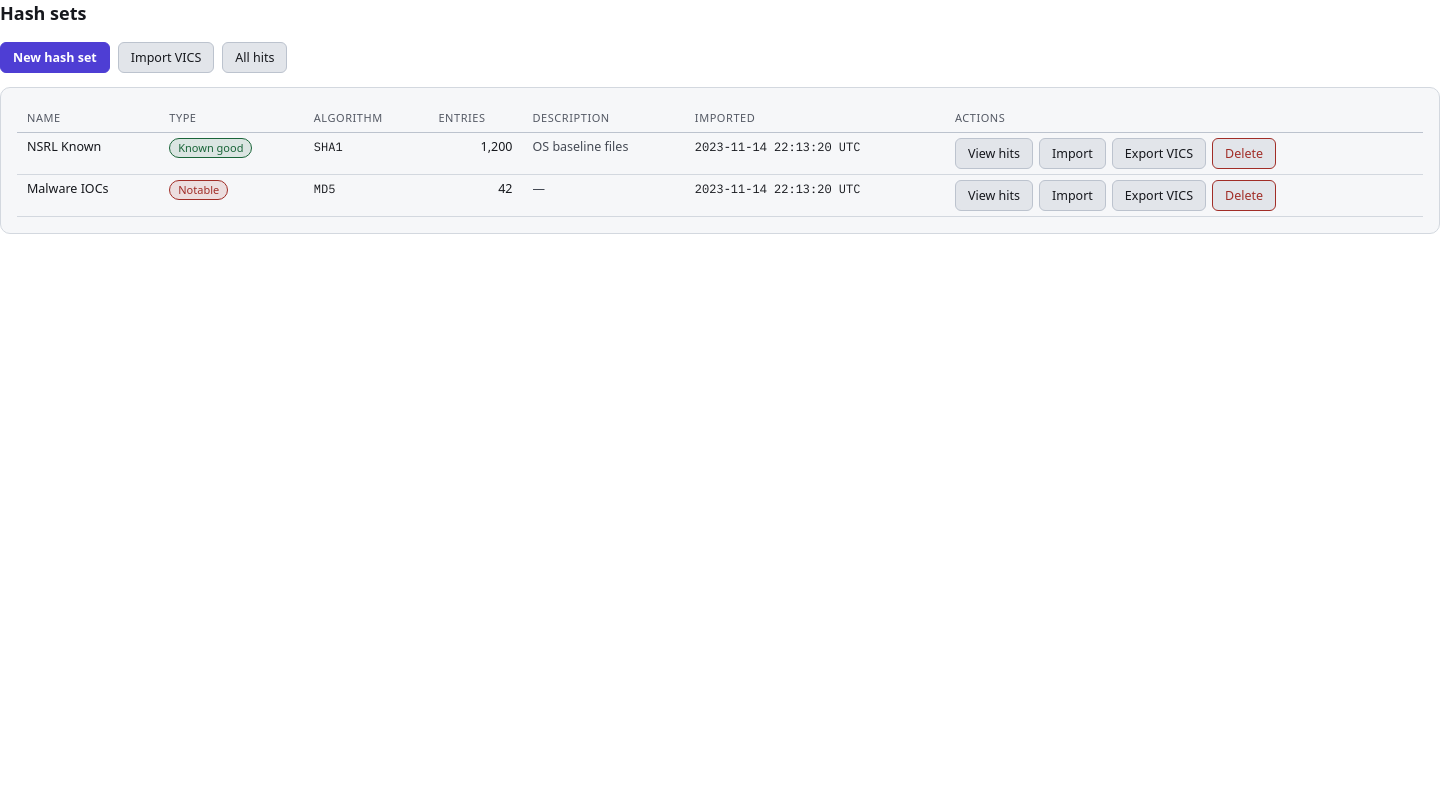
Test case: HashSetsPage › creates a hash set and refreshes the list
The image size is (1440, 810).
Check: the text "NSRL Known" is shown, box [17,132,159,174]
Click the button "New hash set": [55, 58] box [0,42,110,73]
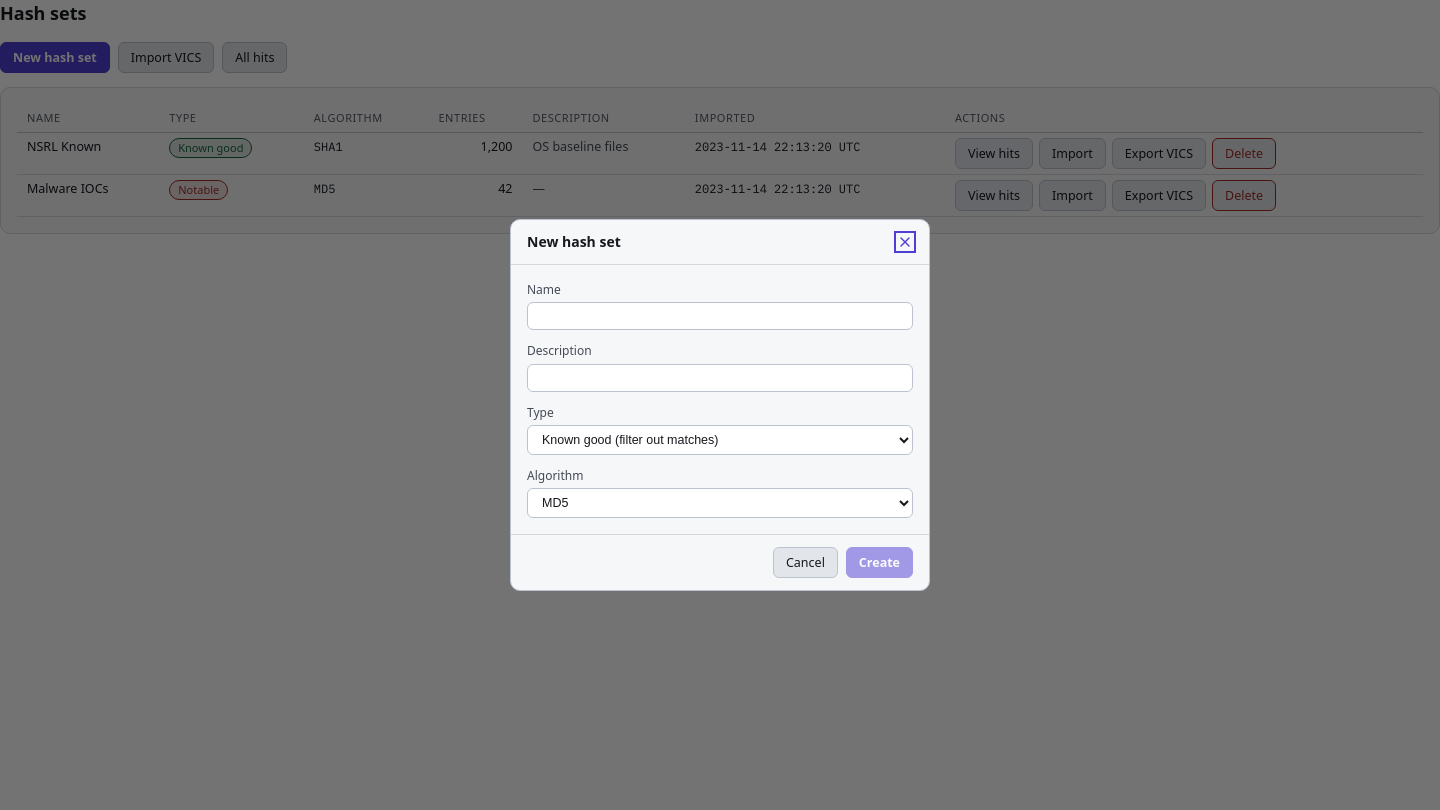
Check: the button "Create" is disabled, box [846,547,913,578]
In the field labelled "Name": [720, 316] box [527,302,913,330], type "Project IOCs"
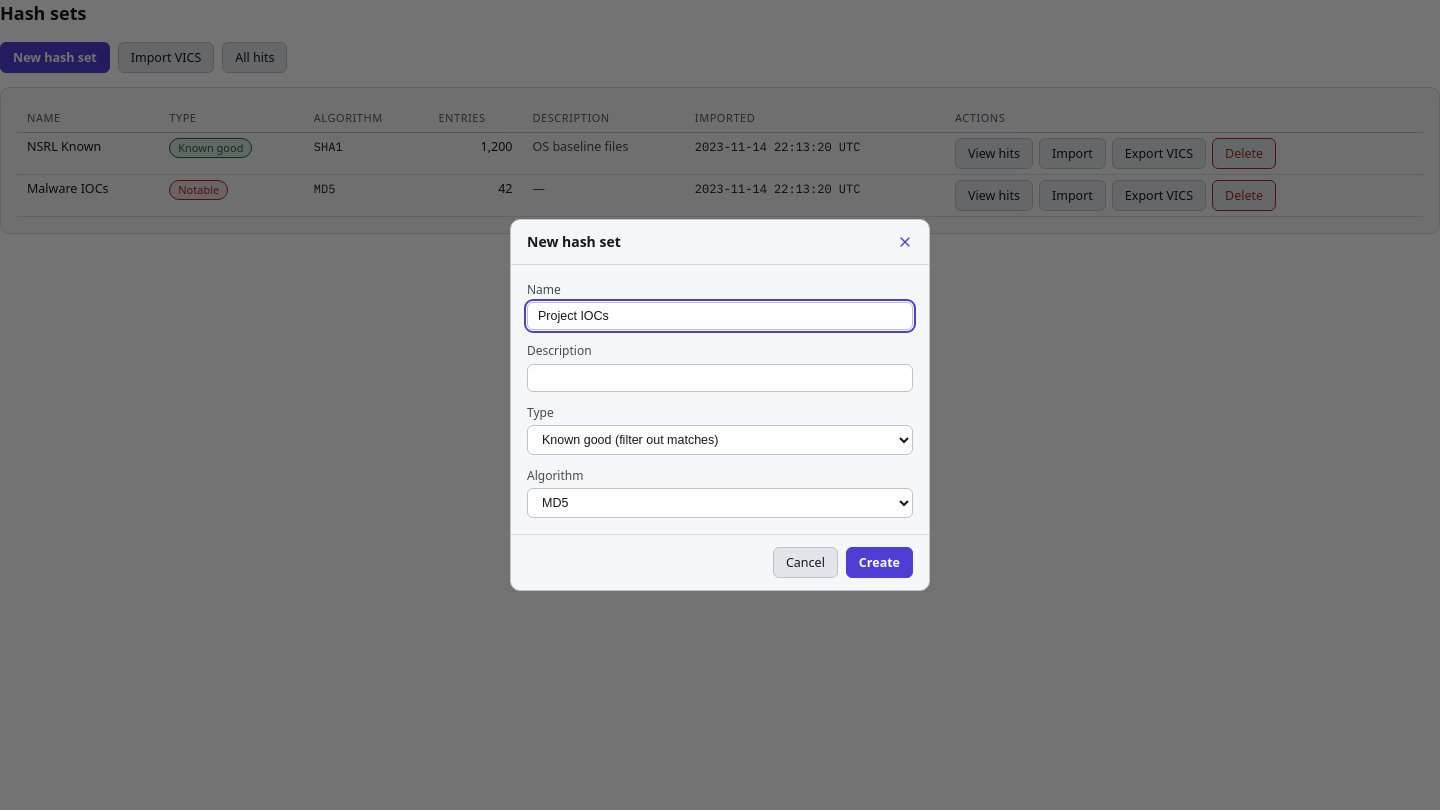
Select "Notable (flag matches)" in the dropdown labelled "Type": [720, 440] box [527,425,913,455]
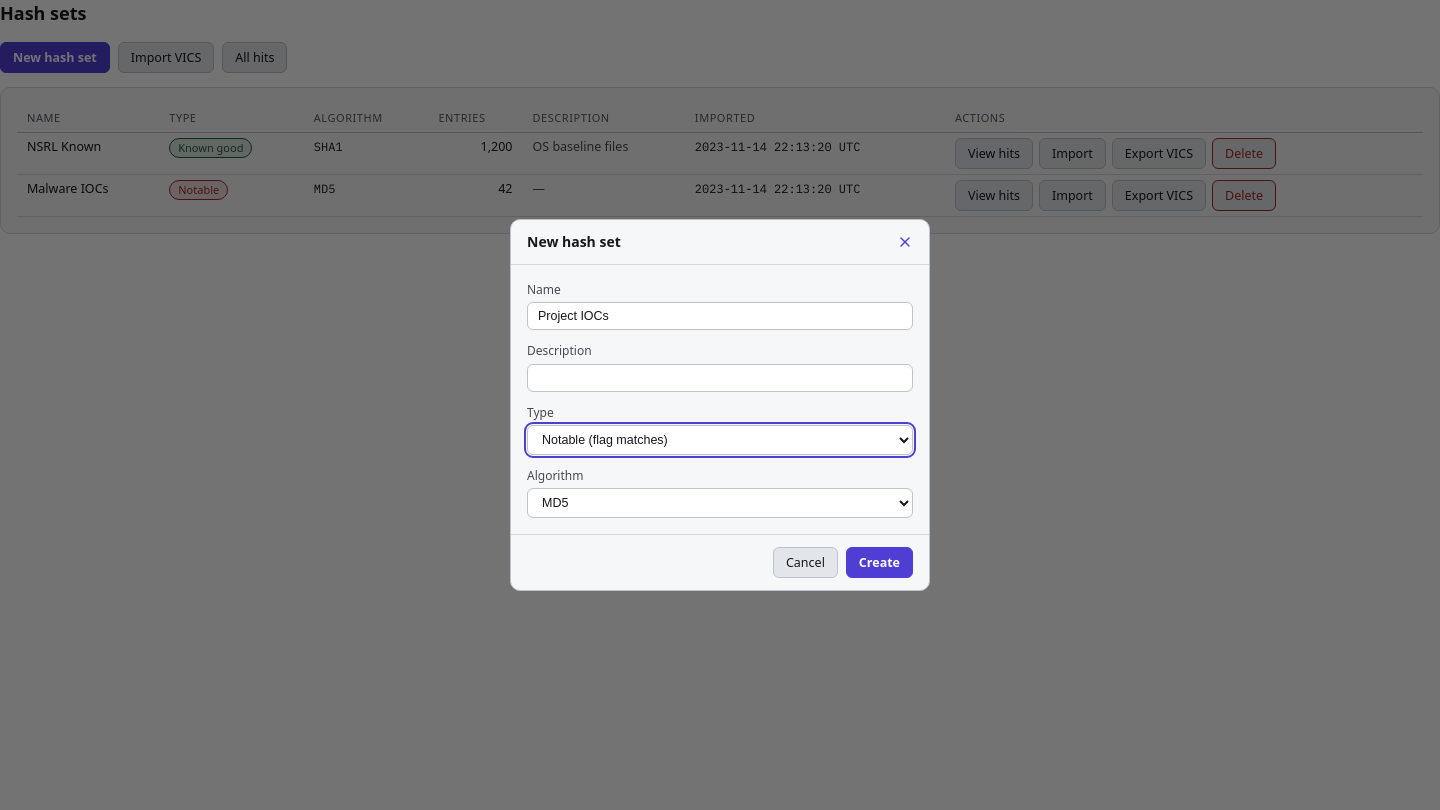
Select "SHA256" in the dropdown labelled "Algorithm": [720, 503] box [527,488,913,518]
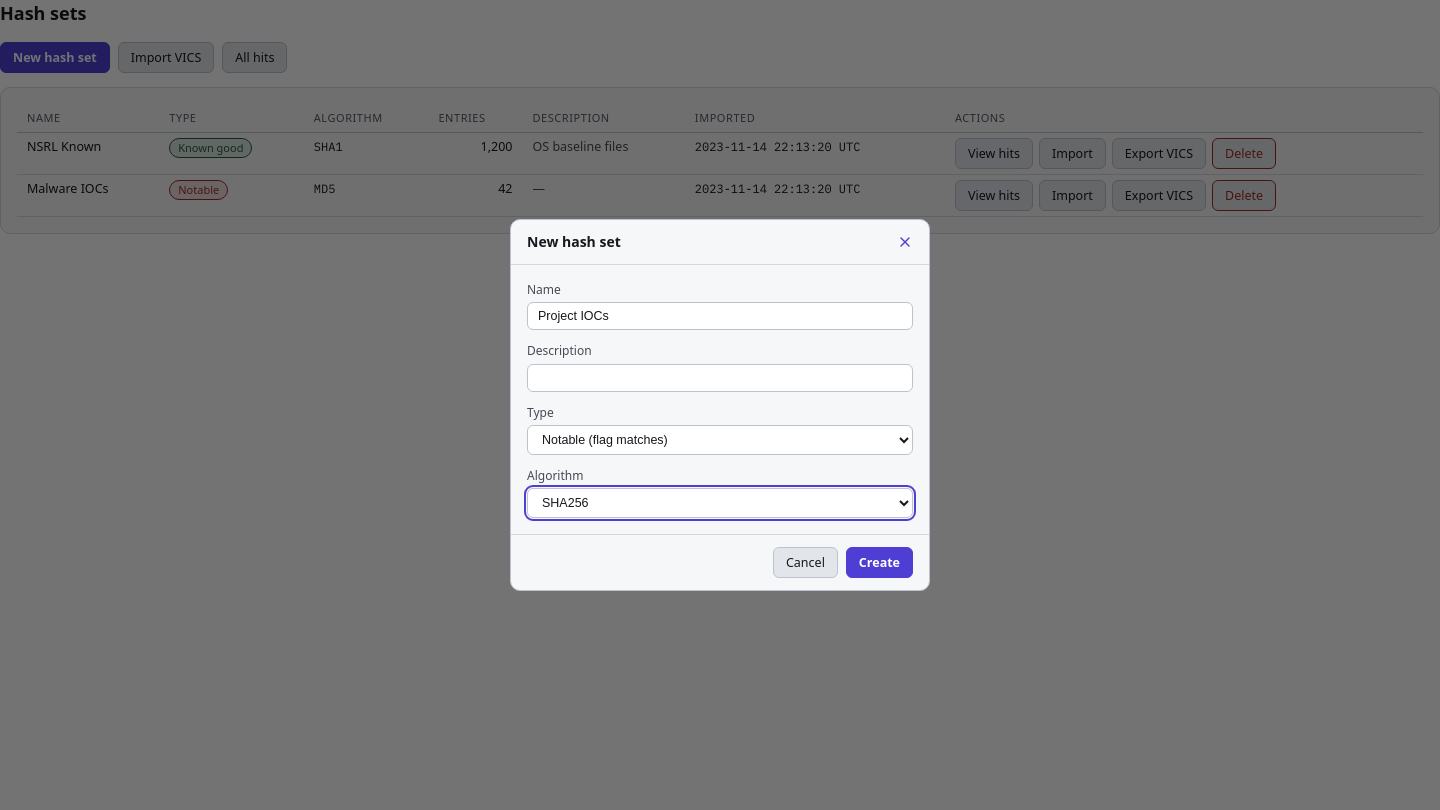
Click the button "Create": [879, 563] box [846,547,913,578]
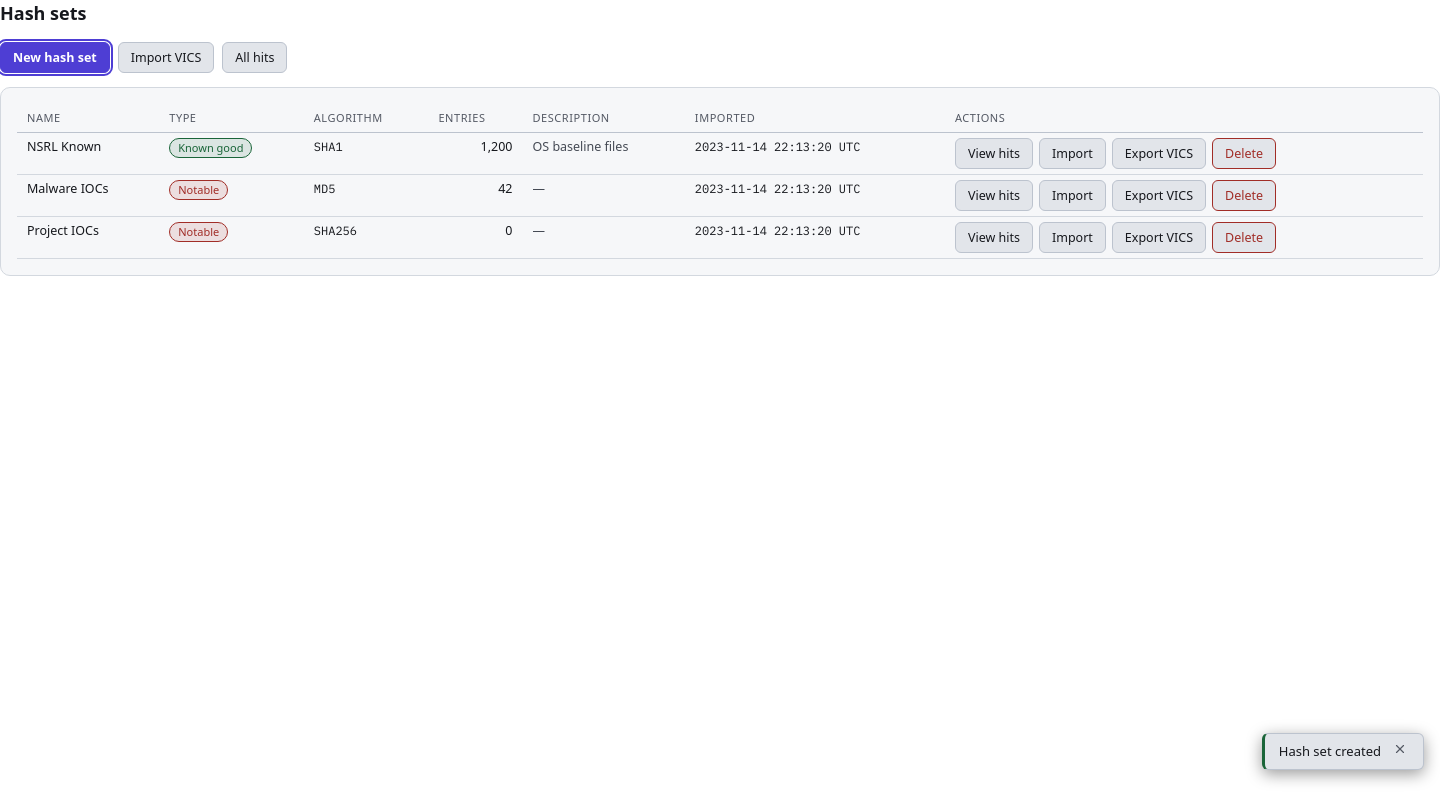
Check: the text "Project IOCs" is shown, box [17,216,159,258]
Check: the dialog is gone
